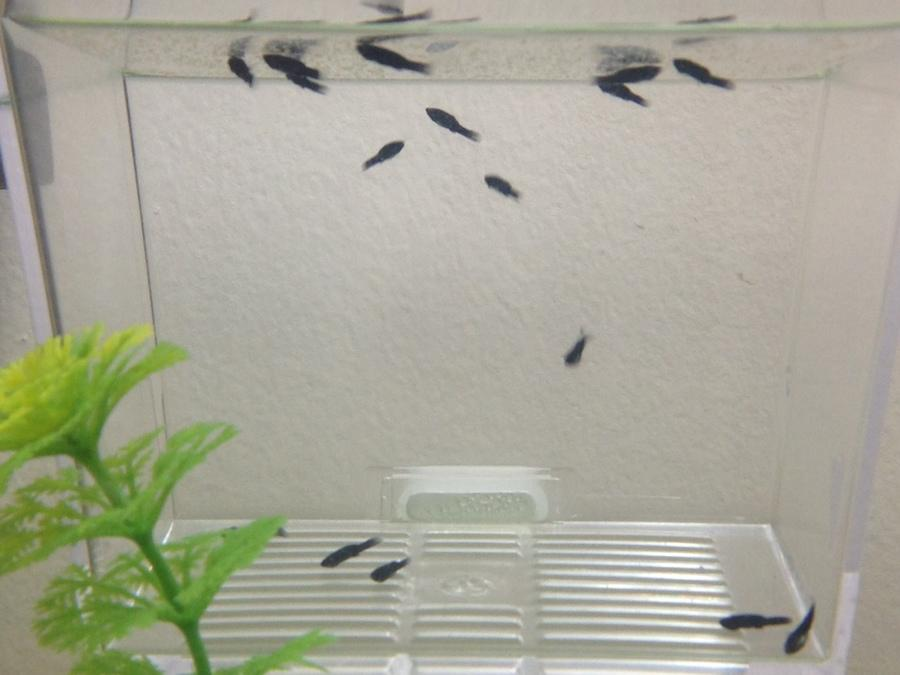fish: (342, 27, 445, 88), (308, 520, 395, 578), (668, 47, 742, 105), (708, 600, 800, 638), (778, 592, 830, 658), (416, 102, 491, 146), (355, 548, 435, 588), (355, 128, 412, 178), (476, 169, 528, 213), (561, 331, 605, 371)
